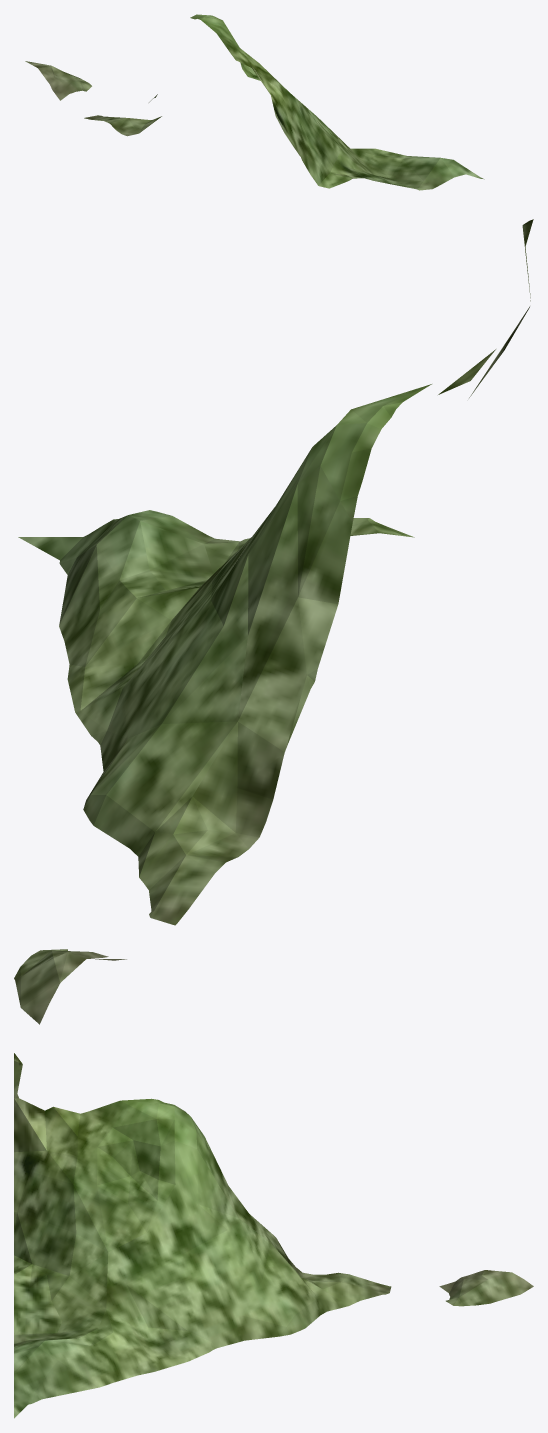
3 renders of one model, top to bottom at view 1: azimuth 30°, elevation 25°; view 2: azimuth 150°, elevation 25°; view 3: azimuth 270°, elevation 25°, orthographic. The views are drawn at different scales.
Size of the model in its own units: 1.51 by 1.24 by 2.51.
Materials: 1 (1 with a texture image).
